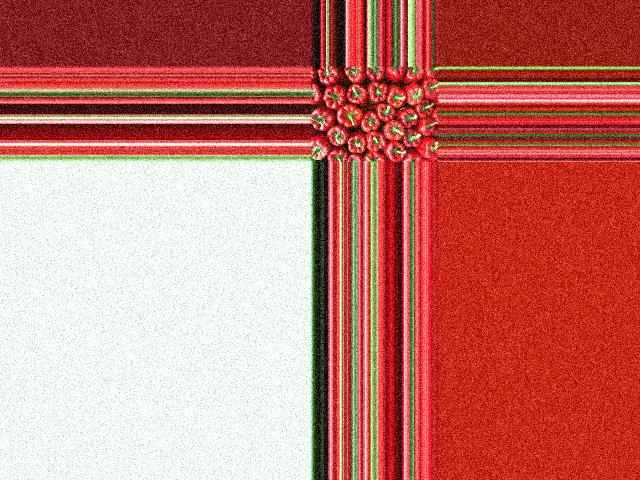bell_pepper: (417, 140, 437, 160)
